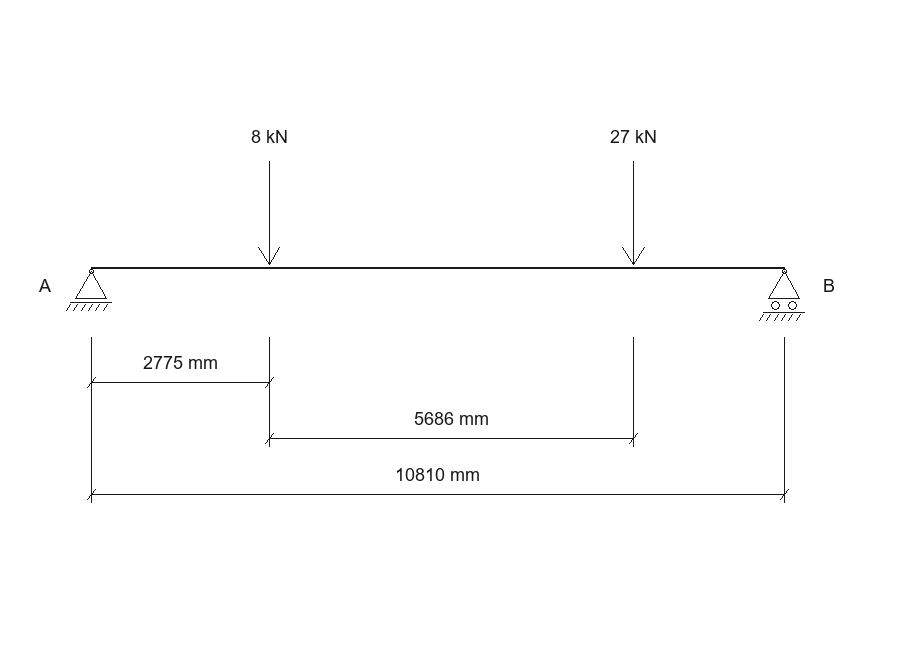pin_support: (66, 269, 112, 311)
point_load: (622, 161, 645, 265), (258, 161, 280, 265)
roller_support: (759, 269, 805, 321)
